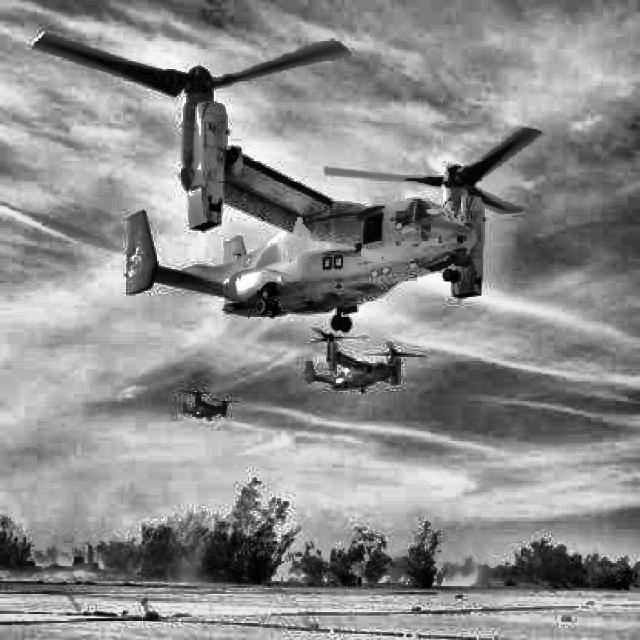V22: (31, 32, 544, 334), (305, 328, 426, 394), (181, 389, 239, 420)
